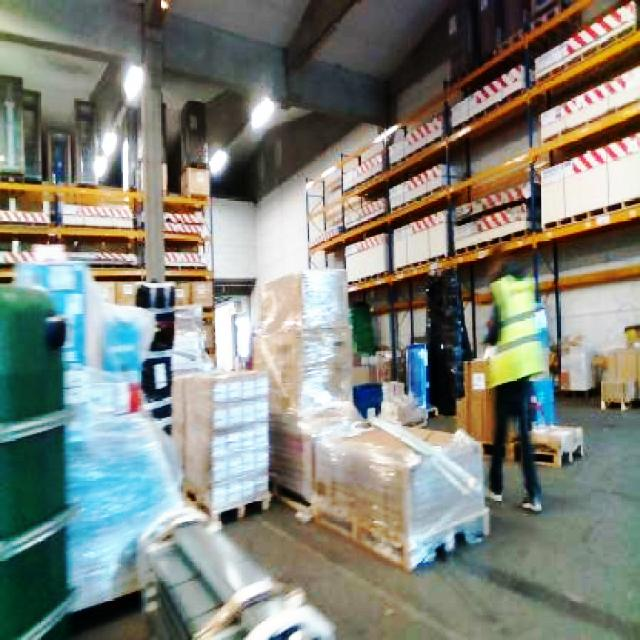ground: (57, 389, 638, 638)
pallet: (306, 0, 639, 298), (0, 172, 215, 357), (308, 414, 491, 571), (169, 366, 272, 522), (454, 355, 583, 468), (592, 345, 638, 411)
